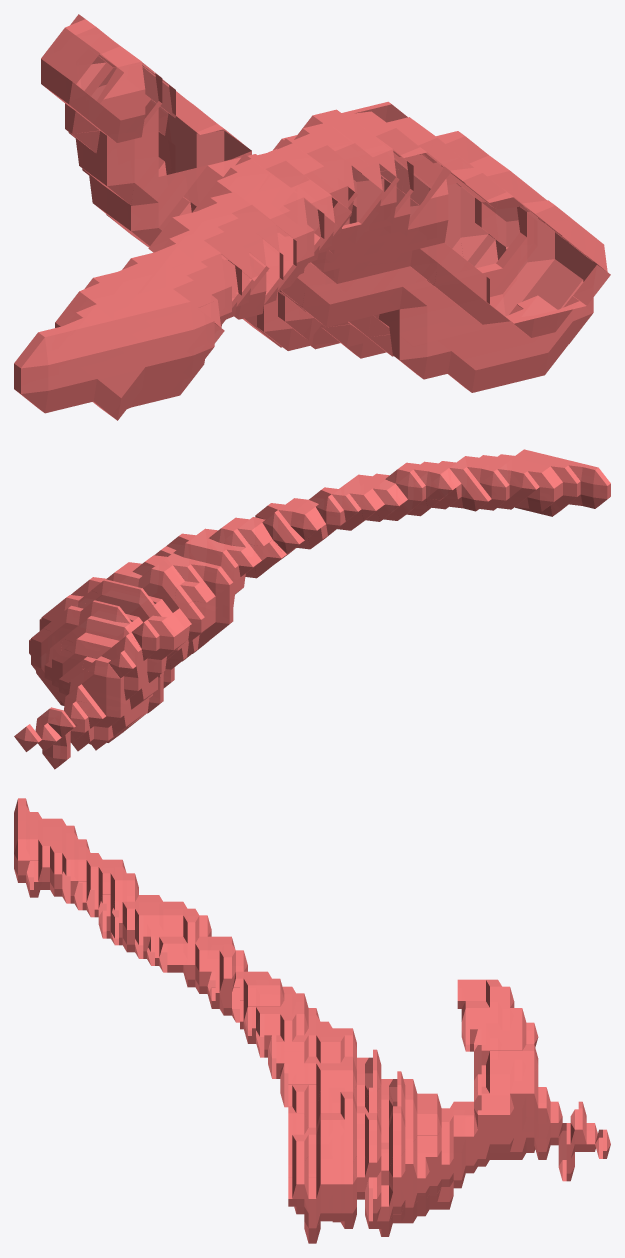
Rendered from SVV_BWM-VL05.gltf.
3 views of the same model, one above another, from view 1: azimuth 30°, elevation 25°; view 2: azimuth 150°, elevation 25°; view 3: azimuth 270°, elevation 25° (orthographic). The views are drawn at different scales.
Visible parts, largest first — view 1: BWM-VL05; view 2: BWM-VL05; view 3: BWM-VL05.
Part boxes in pixels (<box>): BWM-VL05: <box>14,14,610,420</box>; BWM-VL05: <box>14,449,610,769</box>; BWM-VL05: <box>14,798,610,1243</box>.
Bounding box in the file's own units: 17416 × 8194 × 18953.
